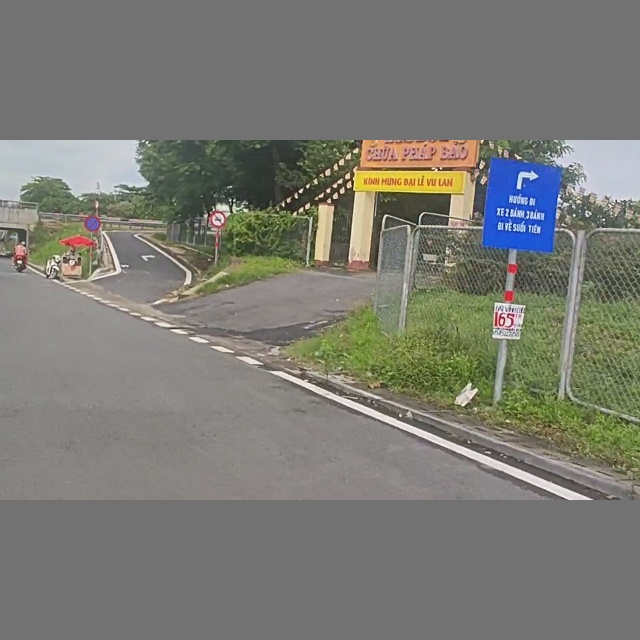P.103a: (209, 210, 226, 229)
P.130: (85, 215, 101, 232)
